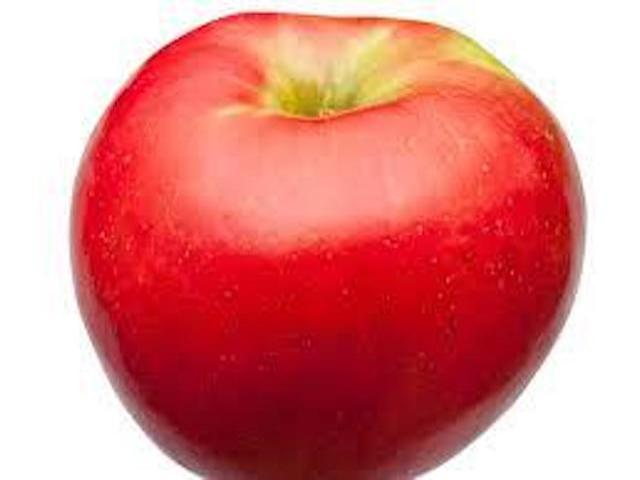apple: (59, 4, 597, 478)
